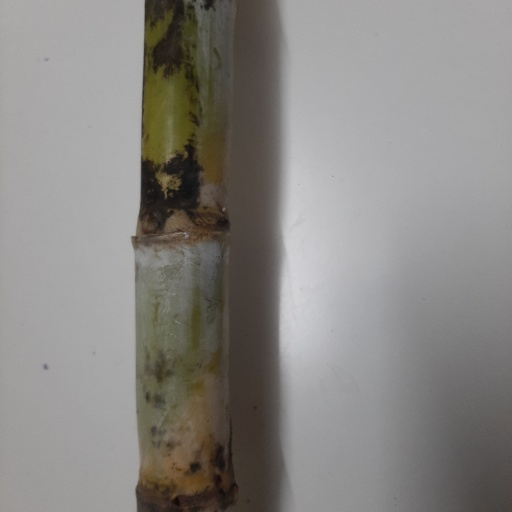Bud: (139, 211, 160, 235)
